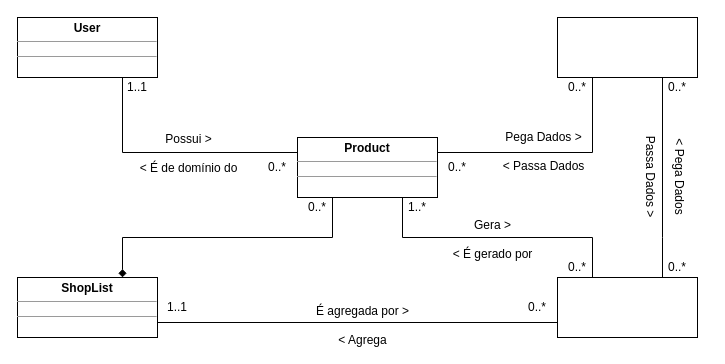
This 725x364 diagram has some shape labels left out. Here are the shapes that lost their labels. From the top down, the box of each, then its label:
(556, 16, 698, 78): SystemData
(556, 276, 698, 338): Alert
